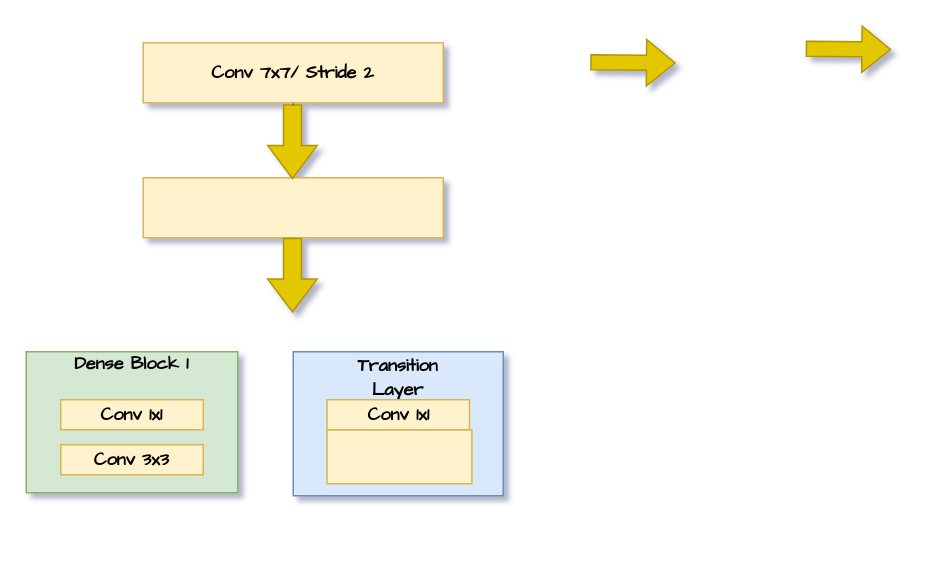
Some shapes in this 927 by 573 pixel diagram are drawn without their labels. Each missing label, with the centre of its shape:
"Average Pool 2x2/Stride 2" belongs at (x=399, y=456).
"Max Pool 3x3/ Stride 2" belongs at (x=292, y=207).
